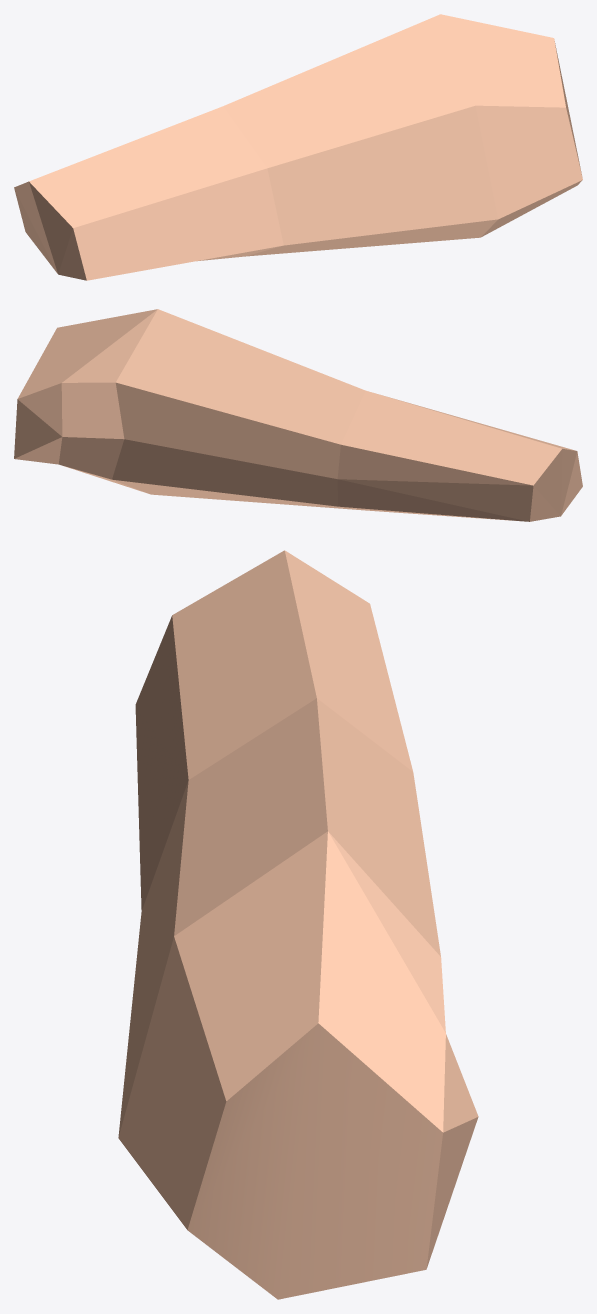
File: Chr_ArmLowerRight_Female_00_Static.fbx
3 renders of one model, top to bottom at view 1: azimuth 30°, elevation 25°; view 2: azimuth 150°, elevation 25°; view 3: azimuth 270°, elevation 25°, orthographic. The views are drawn at different scales.
Visible parts, largest first — view 1: Chr_ArmLowerRight_Female_00_Static; view 2: Chr_ArmLowerRight_Female_00_Static; view 3: Chr_ArmLowerRight_Female_00_Static.
Boxes of the visible parts, x1,y1,x2,y2 form: Chr_ArmLowerRight_Female_00_Static: (14,14,582,280); Chr_ArmLowerRight_Female_00_Static: (14,309,582,521); Chr_ArmLowerRight_Female_00_Static: (118,550,478,1299).
Bounding box in the file's own units: 0.2903 × 0.1093 × 0.0883.
